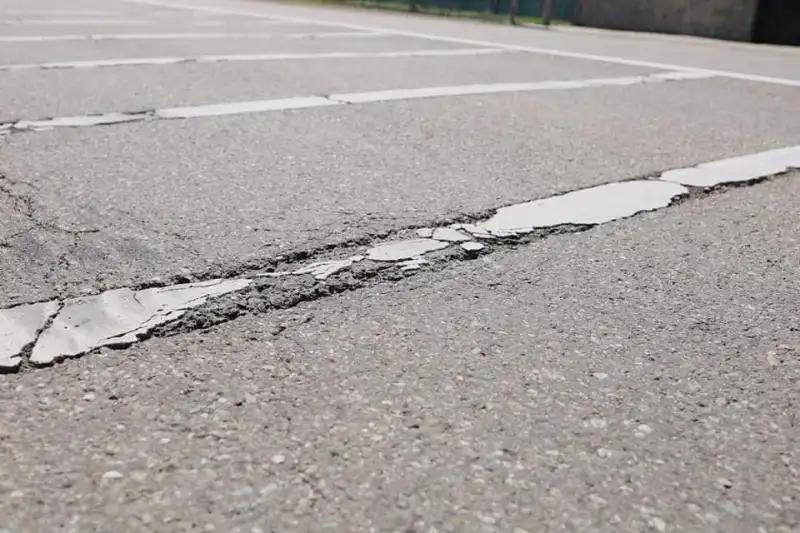faded_road_lines: (0, 140, 798, 387), (0, 67, 716, 142), (0, 40, 520, 77), (0, 25, 408, 47), (0, 7, 329, 29)
